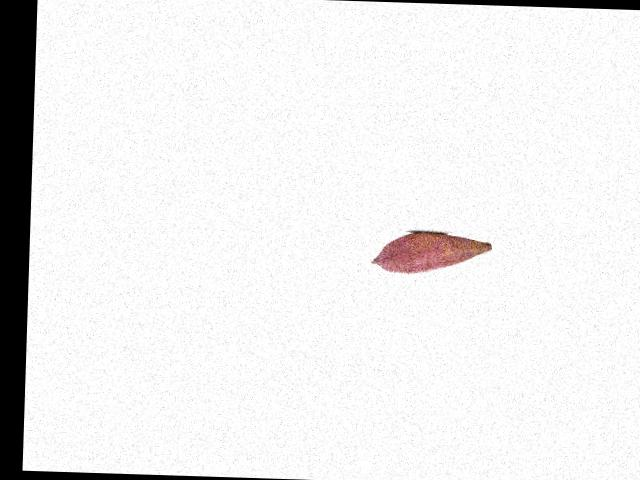sweet_potato: (370, 232, 492, 276)
